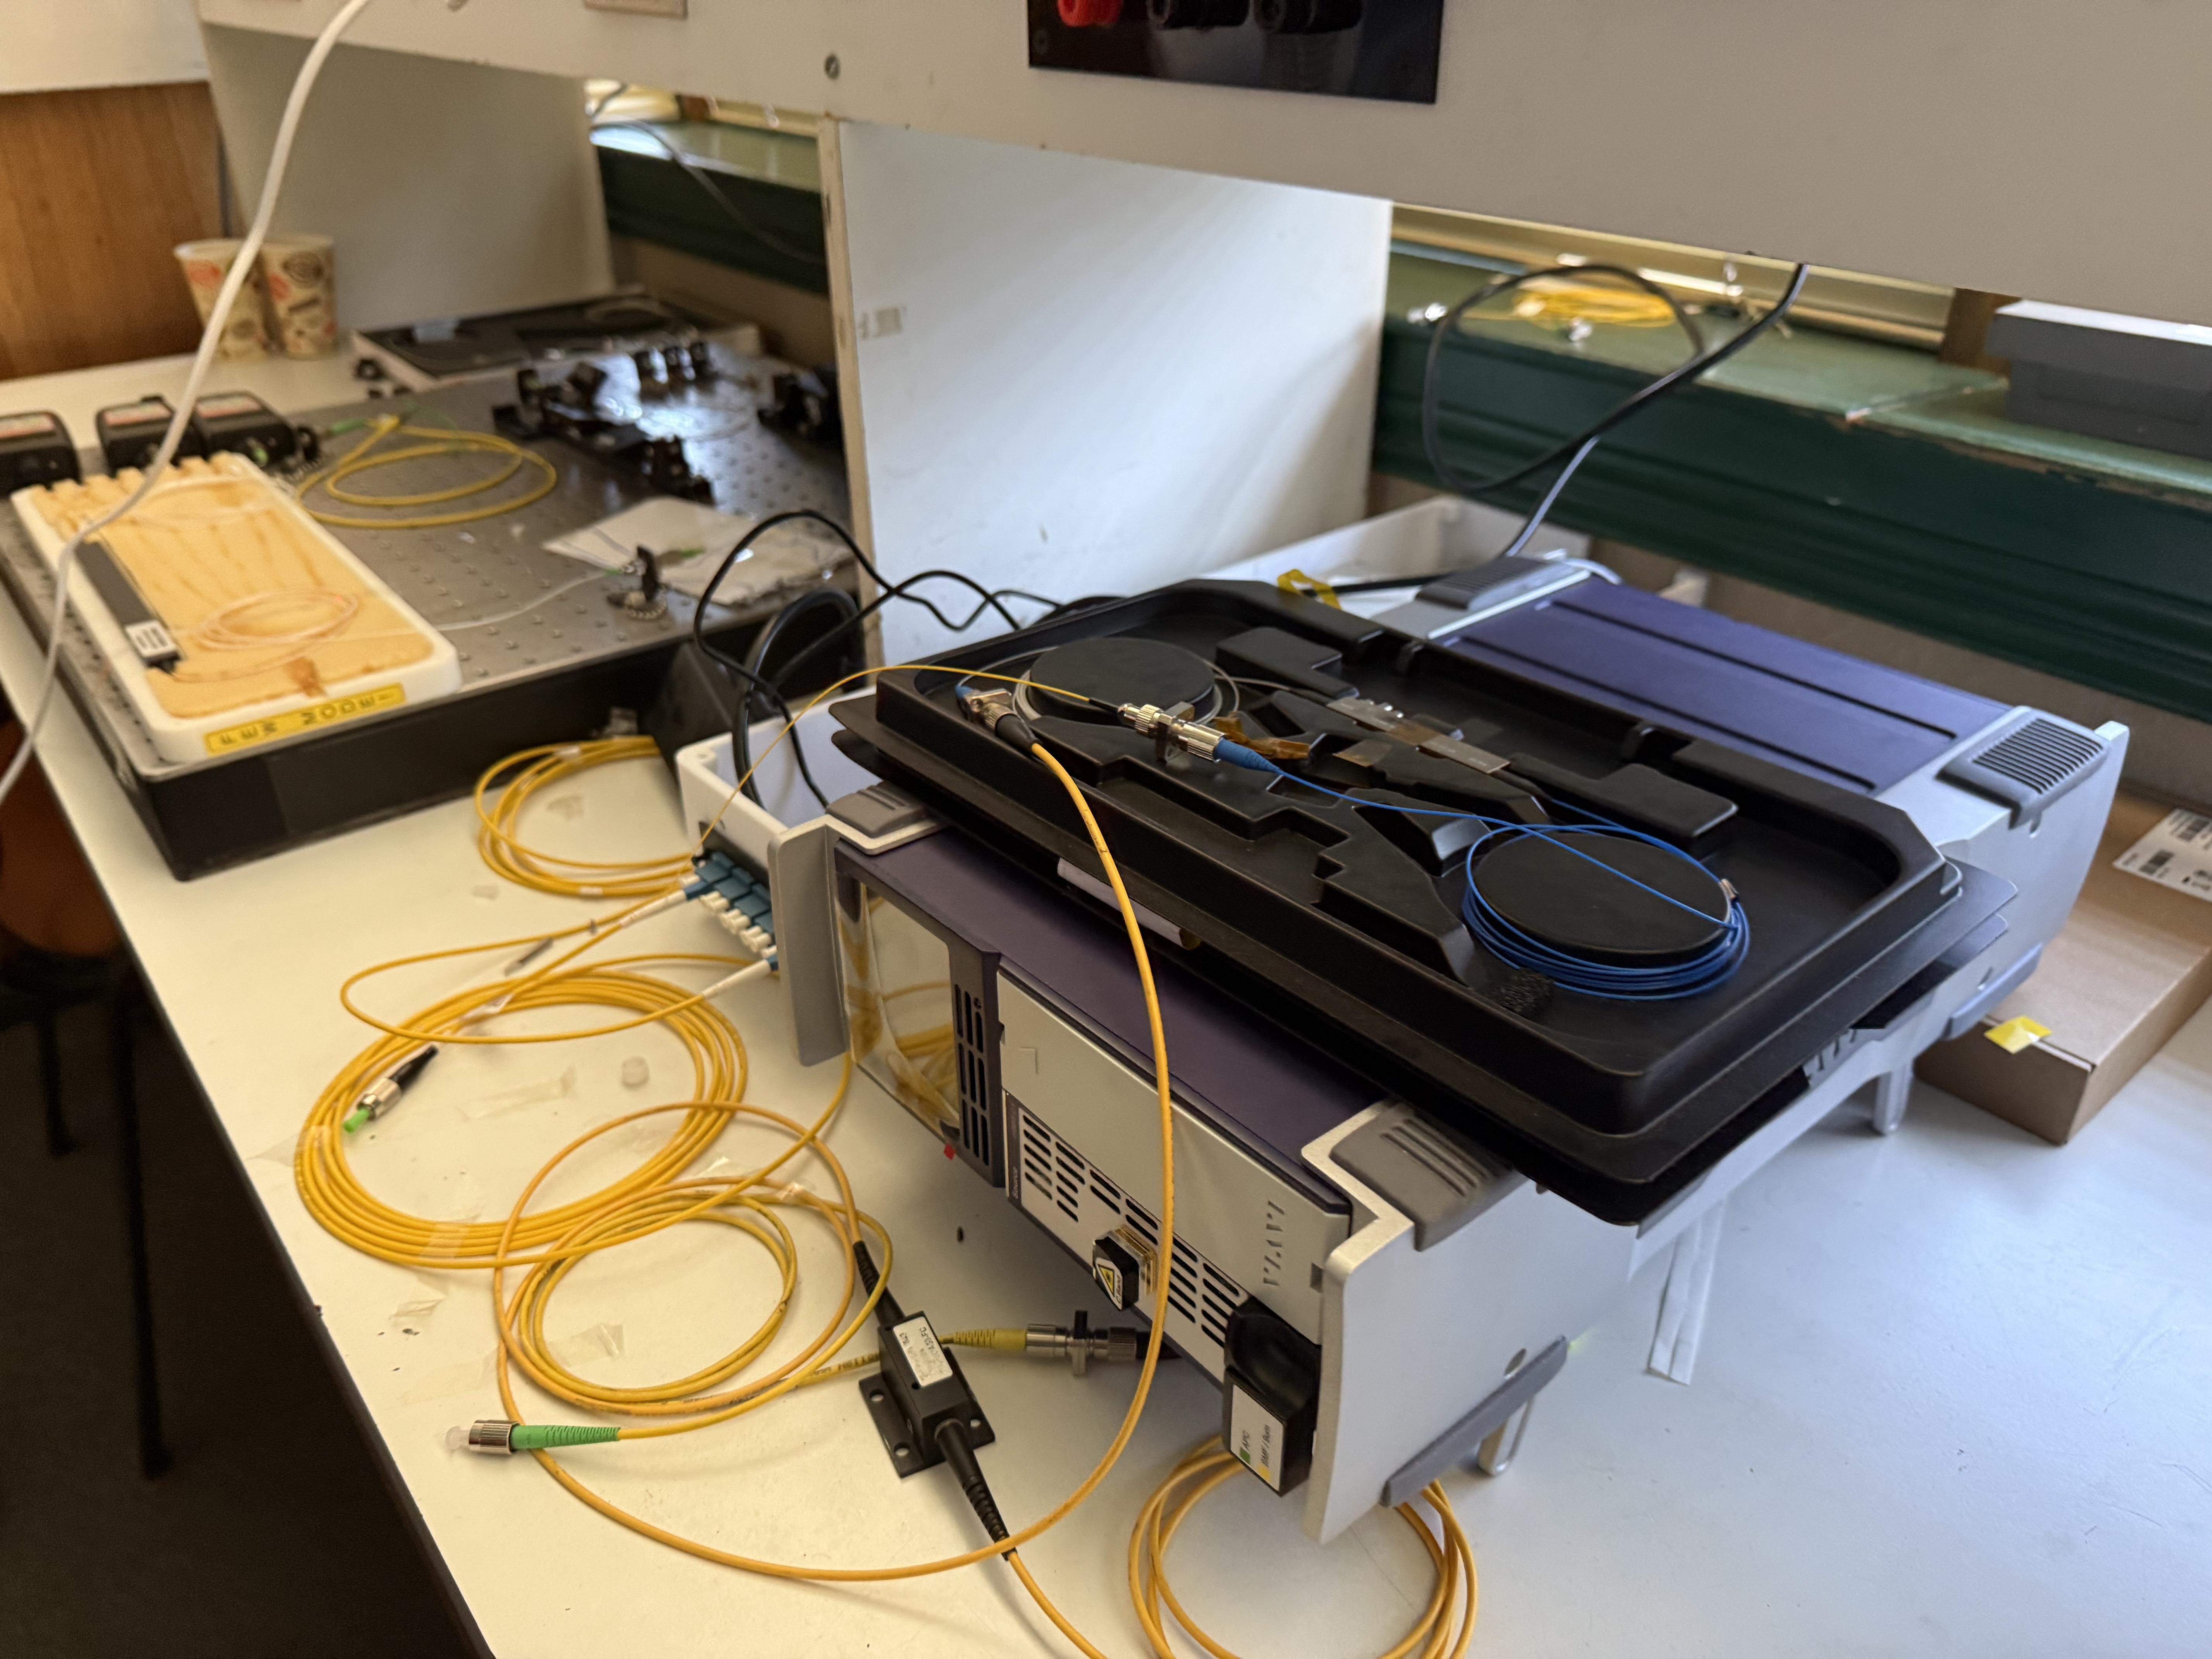fiber_cable: (197, 860, 1023, 1659)
laser: (771, 551, 2149, 1570)
